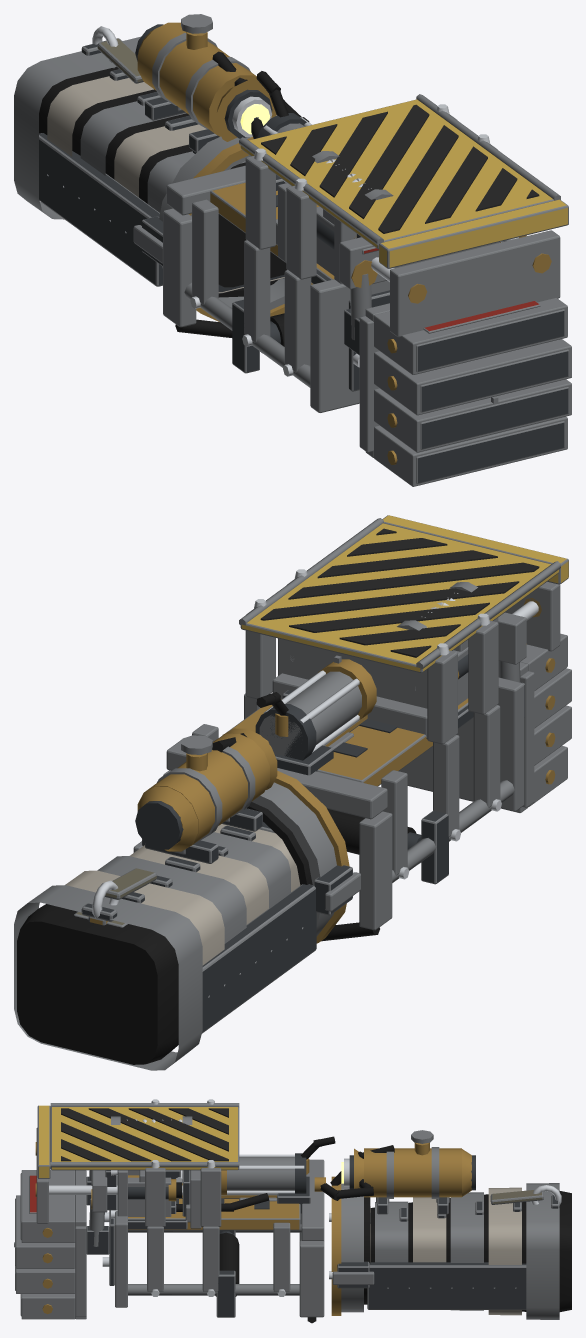
File: sucker_puncher.fbx
3 renders of one model, top to bottom at view 1: azimuth 30°, elevation 25°; view 2: azimuth 150°, elevation 25°; view 3: azimuth 270°, elevation 25°, orthographic. The views are drawn at different scales.
Parts seen in each view (by area): view 1: Mesh_GauntletShell_HazardPlate, Mesh_KnuckleBlock_Segmented, Mesh_ArmCuff_Plated, Mesh_GauntletShell_Frame, Mesh_RamSlide_Rails, Mesh_GauntletShell_Boiler, Mesh_SuckerPuncher_RamArm, Mesh_GauntletShell_WristCollar, Mesh_RamSlide_Carriage, Mesh_RamSlide_Cylinder; view 2: Mesh_ArmCuff_Plated, Mesh_GauntletShell_HazardPlate, Mesh_GauntletShell_Frame, Mesh_GauntletShell_Boiler, Mesh_GauntletShell_WristCollar, Mesh_RamSlide_Cylinder, Mesh_RamSlide_Rails, Mesh_KnuckleBlock_Segmented, Mesh_SuckerPuncher_RamArm, Mesh_SuckerPuncher_Bracket, Mesh_RamSlide_Carriage; view 3: Mesh_ArmCuff_Plated, Mesh_GauntletShell_HazardPlate, Mesh_GauntletShell_Frame, Mesh_KnuckleBlock_Segmented, Mesh_GauntletShell_Boiler, Mesh_GauntletShell_WristCollar, Mesh_RamSlide_Cylinder, Mesh_SuckerPuncher_RamArm, Mesh_RamSlide_Rails, Mesh_RamSlide_Carriage, Mesh_SuckerPuncher_Bracket.
Part boxes in pixels (left/top/right/bottom): Mesh_GauntletShell_HazardPlate: left=239, top=94, right=568, bottom=279; Mesh_KnuckleBlock_Segmented: left=365, top=298, right=571, bottom=486; Mesh_ArmCuff_Plated: left=14, top=26, right=286, bottom=293; Mesh_GauntletShell_Frame: left=163, top=165, right=389, bottom=412; Mesh_RamSlide_Rails: left=278, top=183, right=560, bottom=337; Mesh_GauntletShell_Boiler: left=135, top=14, right=276, bottom=152; Mesh_SuckerPuncher_RamArm: left=339, top=234, right=526, bottom=452; Mesh_GauntletShell_WristCollar: left=133, top=136, right=312, bottom=322; Mesh_RamSlide_Carriage: left=316, top=204, right=356, bottom=283; Mesh_RamSlide_Cylinder: left=256, top=71, right=311, bottom=182; Mesh_ArmCuff_Plated: left=14, top=822, right=316, bottom=1070; Mesh_GauntletShell_HazardPlate: left=239, top=515, right=568, bottom=744; Mesh_GauntletShell_Frame: left=163, top=677, right=524, bottom=941; Mesh_GauntletShell_Boiler: left=135, top=728, right=277, bottom=863; Mesh_GauntletShell_WristCollar: left=133, top=771, right=360, bottom=943; Mesh_RamSlide_Cylinder: left=255, top=659, right=376, bottom=760; Mesh_RamSlide_Rails: left=278, top=581, right=560, bottom=728; Mesh_KnuckleBlock_Segmented: left=514, top=633, right=571, bottom=812; Mesh_SuckerPuncher_RamArm: left=498, top=612, right=534, bottom=807; Mesh_SuckerPuncher_Bracket: left=262, top=673, right=427, bottom=775; Mesh_RamSlide_Carriage: left=453, top=617, right=498, bottom=705; Mesh_ArmCuff_Plated: left=367, top=1183, right=571, bottom=1319; Mesh_GauntletShell_HazardPlate: left=37, top=1099, right=239, bottom=1226; Mesh_GauntletShell_Frame: left=102, top=1159, right=324, bottom=1323; Mesh_KnuckleBlock_Segmented: left=15, top=1170, right=86, bottom=1319; Mesh_GauntletShell_Boiler: left=330, top=1130, right=475, bottom=1214; Mesh_GauntletShell_WristCollar: left=329, top=1176, right=374, bottom=1315; Mesh_RamSlide_Cylinder: left=181, top=1136, right=335, bottom=1194; Mesh_SuckerPuncher_RamArm: left=75, top=1170, right=116, bottom=1316; Mesh_RamSlide_Rails: left=35, top=1127, right=201, bottom=1229; Mesh_RamSlide_Carriage: left=111, top=1170, right=182, bottom=1218; Mesh_SuckerPuncher_Bracket: left=171, top=1176, right=373, bottom=1222.
Size of the model in its own units: 17.8 by 21.6 by 59.17.
